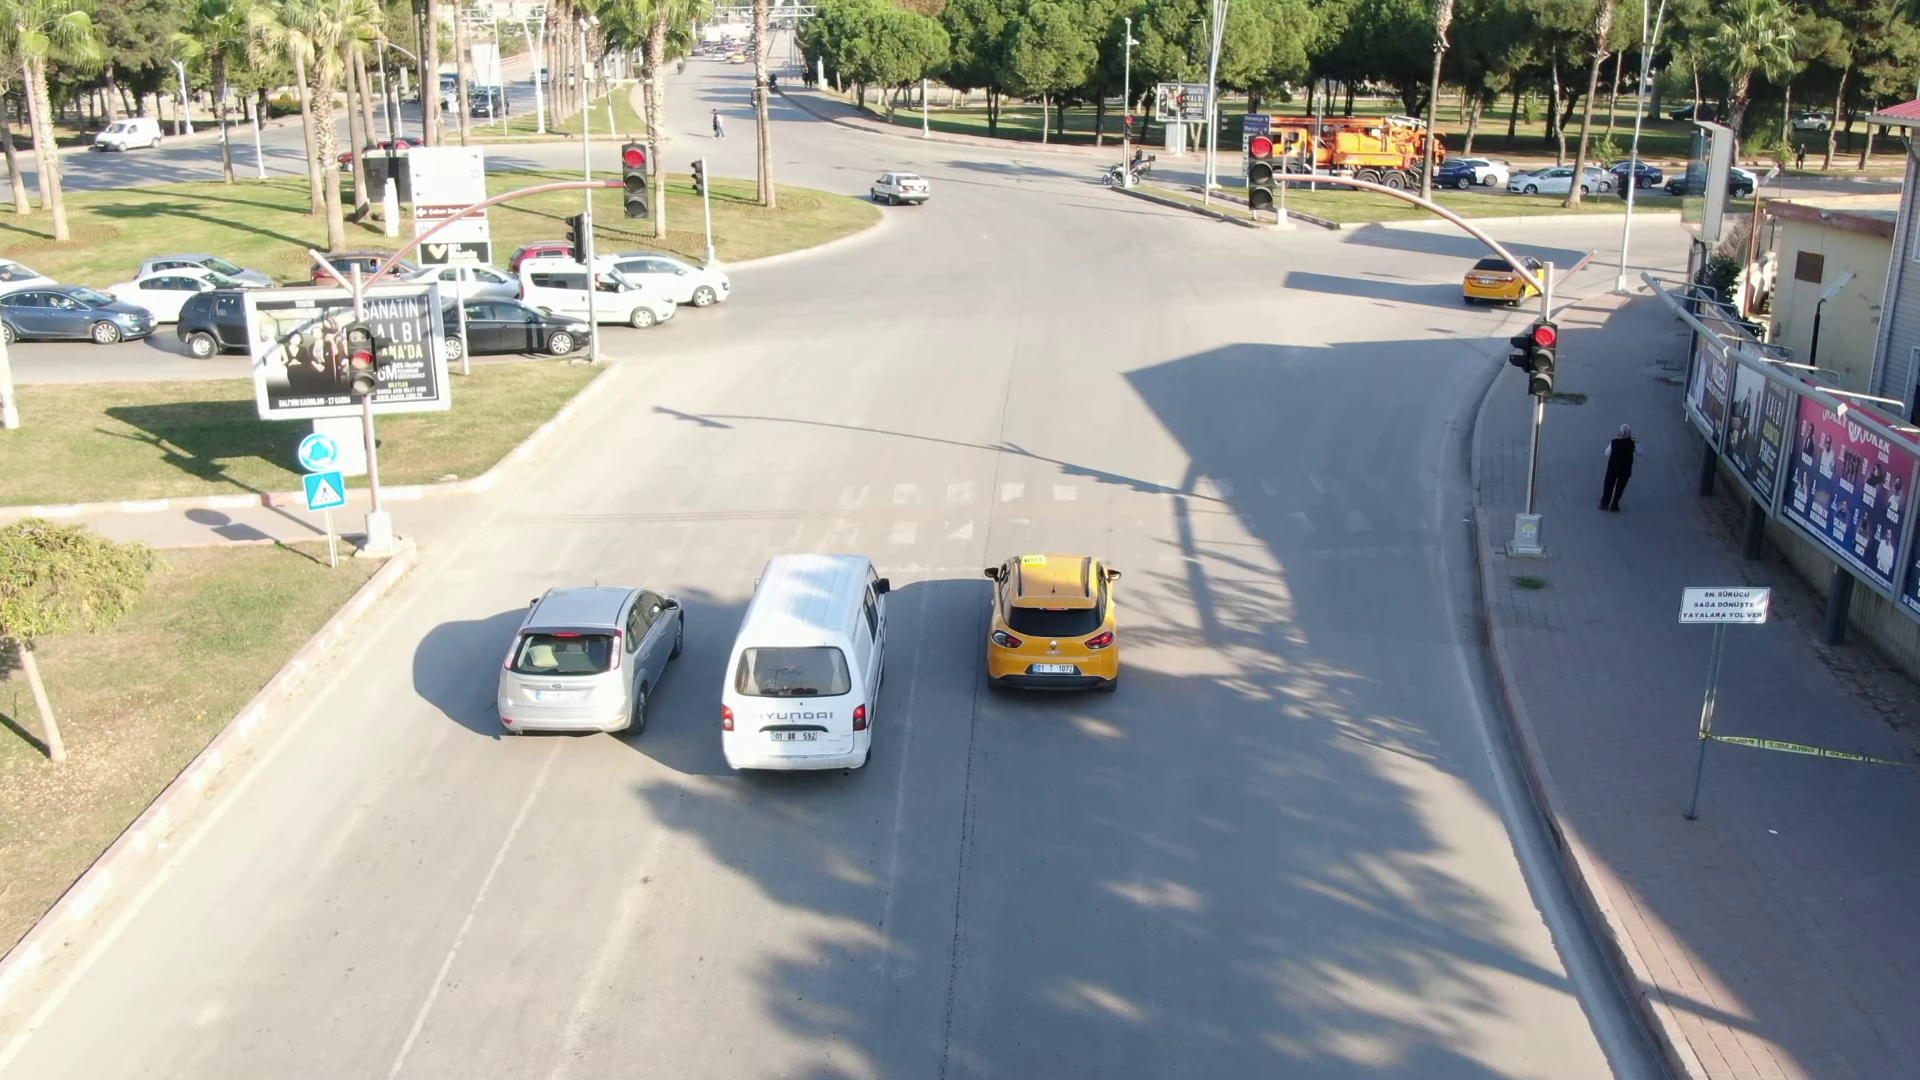car: (714, 539, 898, 790), (482, 576, 682, 749), (976, 551, 1139, 704), (517, 245, 678, 327), (447, 294, 602, 355), (582, 245, 729, 306), (1468, 247, 1553, 304), (868, 170, 945, 208)
person: (1594, 425, 1641, 523)
